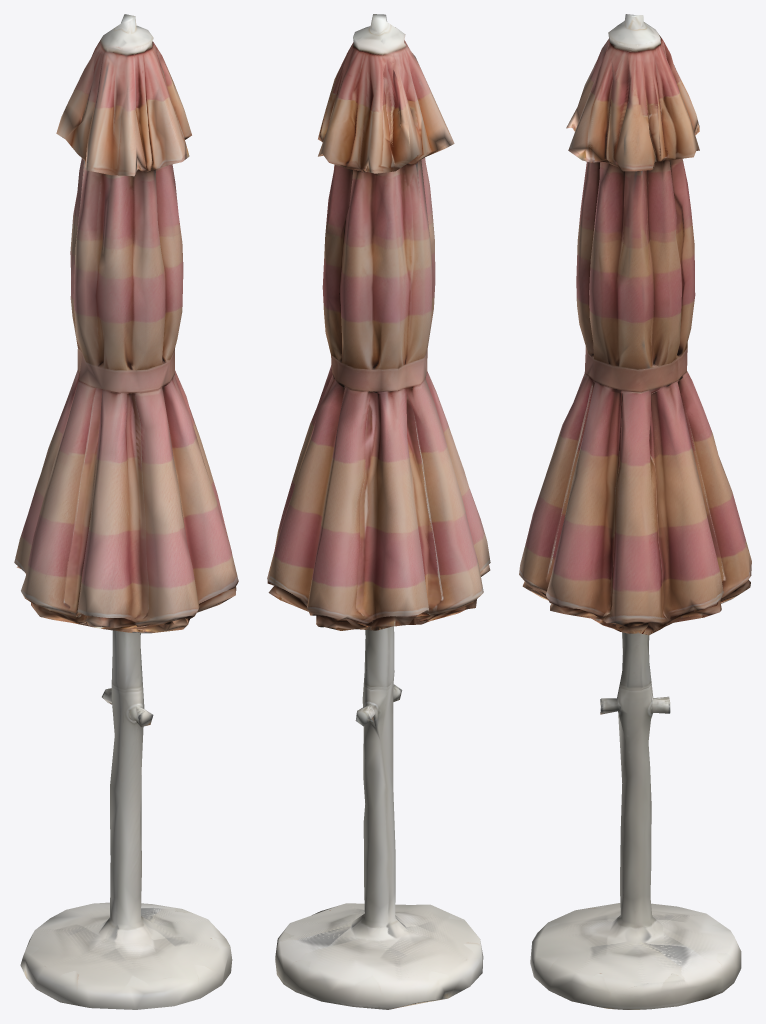
Rendered from VAR_Pool_Parasol_Folded.fbx.
3 renders of one model, left to right at view 1: azimuth 30°, elevation 25°; view 2: azimuth 150°, elevation 25°; view 3: azimuth 270°, elevation 25°, orthographic.
Parts seen in each view (by area): view 1: texture_mapping; view 2: texture_mapping; view 3: texture_mapping.
Boxes of the visible parts, x1,y1,x2,y2 form: texture_mapping: [14, 14, 238, 1009]; texture_mapping: [267, 14, 490, 1009]; texture_mapping: [519, 14, 751, 1009].
Size of the model in its own units: 0.223 by 0.2209 by 0.9986.
Materials: 1 (1 with a texture image).
